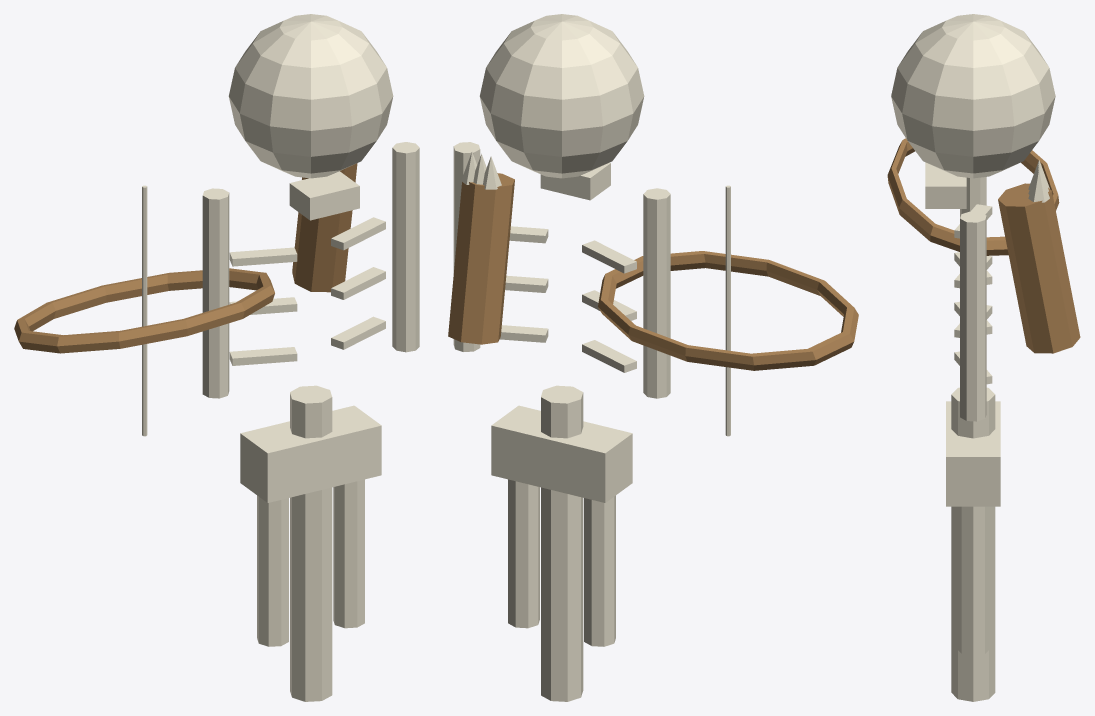
The model's file is skeleton_archer.glb.
3 views of the same model, side by side, from view 1: azimuth 30°, elevation 25°; view 2: azimuth 150°, elevation 25°; view 3: azimuth 270°, elevation 25° (orthographic).
Parts seen in each view (by area): view 1: Skull, Spine, Pelvis, Bow, Arm_R, Arm_L, Leg_L, Leg_R, Quiver, Jaw, BowString, Rib_0_L (+4 smaller); view 2: Skull, Spine, Pelvis, Bow, Quiver, Arm_L, Leg_L, Leg_R, Jaw, Arm_R, BowString, Rib_0_L (+3 smaller); view 3: Skull, Quiver, Arm_R, Spine, Leg_R, Pelvis, Bow, Jaw, Arm_L, ArrowTip_2.
Boxes of the visible parts, x1,y1,x2,y2 form: Skull: [228, 14, 393, 178]; Spine: [290, 385, 332, 701]; Pelvis: [240, 405, 381, 502]; Bow: [14, 268, 274, 353]; Arm_R: [392, 142, 419, 352]; Arm_L: [202, 188, 229, 398]; Leg_L: [257, 495, 288, 646]; Leg_R: [333, 479, 364, 628]; Quiver: [292, 163, 357, 292]; Jaw: [289, 171, 359, 220]; BowString: [142, 185, 147, 436]; Rib_0_L: [229, 247, 297, 266]; Skull: [479, 14, 644, 178]; Spine: [541, 385, 583, 701]; Pelvis: [491, 405, 632, 502]; Bow: [598, 251, 858, 370]; Quiver: [448, 173, 514, 344]; Arm_L: [643, 188, 670, 398]; Leg_L: [584, 495, 615, 646]; Leg_R: [508, 479, 539, 628]; Jaw: [540, 162, 610, 200]; Arm_R: [453, 142, 480, 351]; BowString: [725, 185, 730, 436]; Rib_0_L: [582, 240, 636, 273]; Skull: [891, 14, 1055, 178]; Quiver: [998, 183, 1080, 353]; Arm_R: [960, 211, 986, 421]; Spine: [951, 387, 995, 701]; Leg_R: [957, 506, 989, 655]; Pelvis: [946, 401, 1000, 506]; Bow: [887, 138, 1059, 255]; Jaw: [925, 162, 966, 208]; Arm_L: [960, 177, 986, 218]; ArrowTip_2: [1028, 169, 1049, 202].
Size of the model in its own units: 0.8391 by 1.35 by 0.3519.
